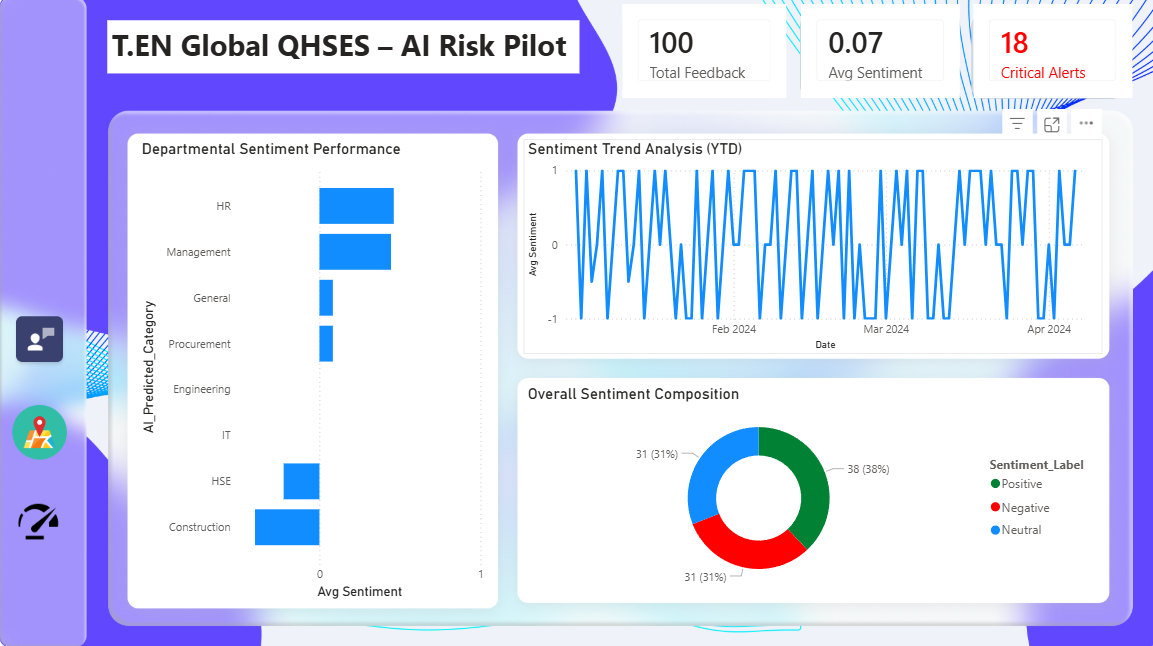

What the dashboard file says about the page in this screenshot:
{"tool":"powerbi","page":{"name":"Executive Summary","canvas":[1280,720],"ordinal":0},"visuals":[{"type":"image","box":[10,0,1270,720],"z":0},{"type":"clusteredBarChart","title":"Departmental Sentiment Performance","fields":{"Category":["refined_ten_dashboard_data.AI_Predicted_Category"],"Y":["refined_ten_dashboard_data.Avg Sentiment"]},"box":[160,158.6,390,510],"z":1000},{"type":"donutChart","title":"Overall Sentiment Composition","fields":{"Category":["refined_ten_dashboard_data.Sentiment_Label"],"Y":["refined_ten_dashboard_data.Total Feedback"]},"box":[584.3,428.6,635.7,230],"z":2000},{"type":"lineChart","title":"Sentiment Trend Analysis (YTD)","fields":{"Category":["refined_ten_dashboard_data.Date"],"Y":["refined_ten_dashboard_data.Avg Sentiment"]},"box":[584.3,158.6,635.7,237.1],"z":3000},{"type":"cardVisual","fields":{"Data":["refined_ten_dashboard_data.Total Feedback"]},"box":[692.9,11.4,180,102.9],"z":4000},{"type":"cardVisual","fields":{"Data":["refined_ten_dashboard_data.Avg Sentiment"]},"box":[888.6,11.4,174.3,102.9],"z":5000},{"type":"cardVisual","fields":{"Data":["refined_ten_dashboard_data.Critical Alerts"]},"box":[1078.6,11.4,174.3,102.9],"z":6000},{"type":"image","box":[22.9,438.6,60,84.3],"z":7000},{"type":"image","box":[22.9,327.1,60,111.4],"z":8000},{"type":"image","box":[30,522.9,44.3,112.9],"z":9000},{"type":"textbox","box":[127.1,28.6,518.6,58.6],"z":10000}]}

Visuals, with their boxes on the page's 1280x720 design canvas (x1, y1, x2, y2). These are canvas units, not pixel positions in the 1153x646 screenshot, which may show the page scaled, cropped or inside an application window:
image: 10,0,1280,720
"Departmental Sentiment Performance" clusteredBarChart: 160,159,550,669
"Overall Sentiment Composition" donutChart: 584,429,1220,659
"Sentiment Trend Analysis (YTD)" lineChart: 584,159,1220,396
cardVisual - refined_ten_dashboard_data.Total Feedback: 693,11,873,114
cardVisual - refined_ten_dashboard_data.Avg Sentiment: 889,11,1063,114
cardVisual - refined_ten_dashboard_data.Critical Alerts: 1079,11,1253,114
image: 23,439,83,523
image: 23,327,83,438
image: 30,523,74,636
textbox: 127,29,646,87
